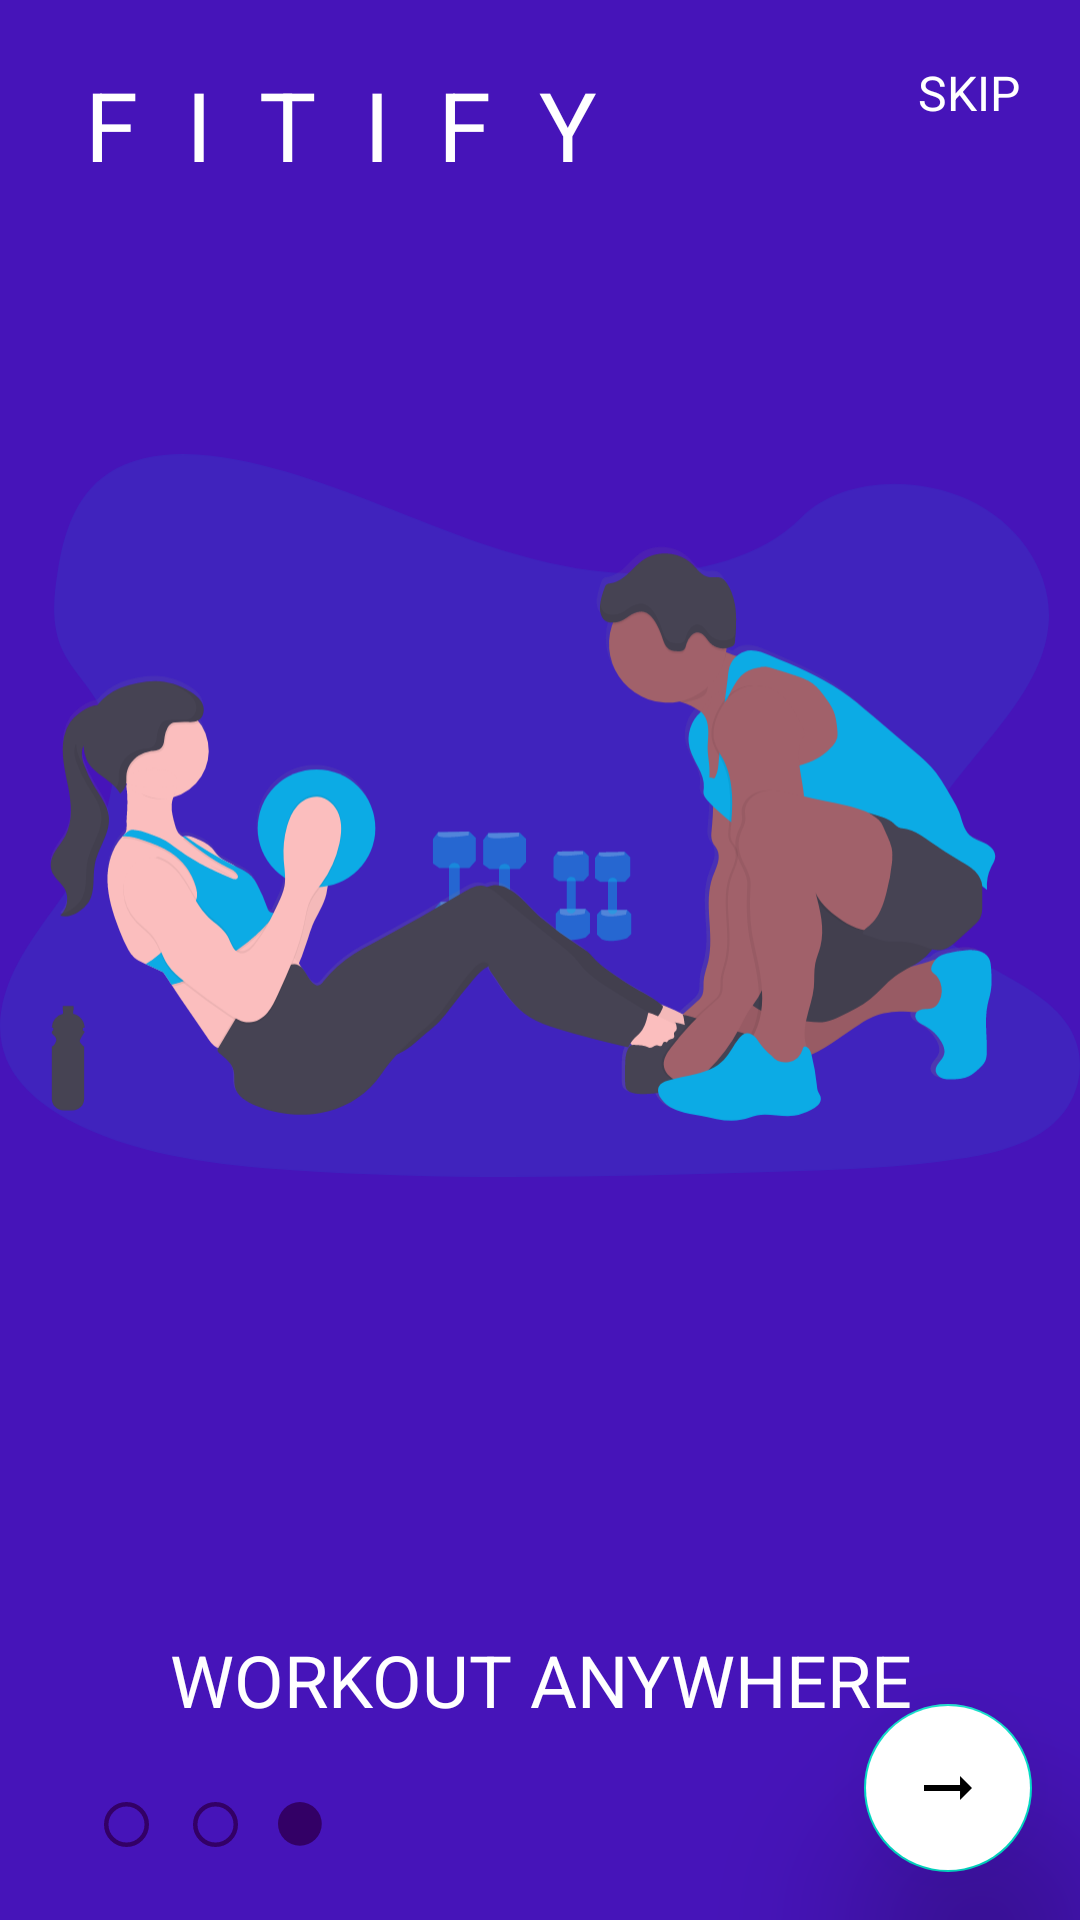

Where to tap for icons on this 1080×1920 app screen, as [x,y]:
arrow right: [948,1788]
